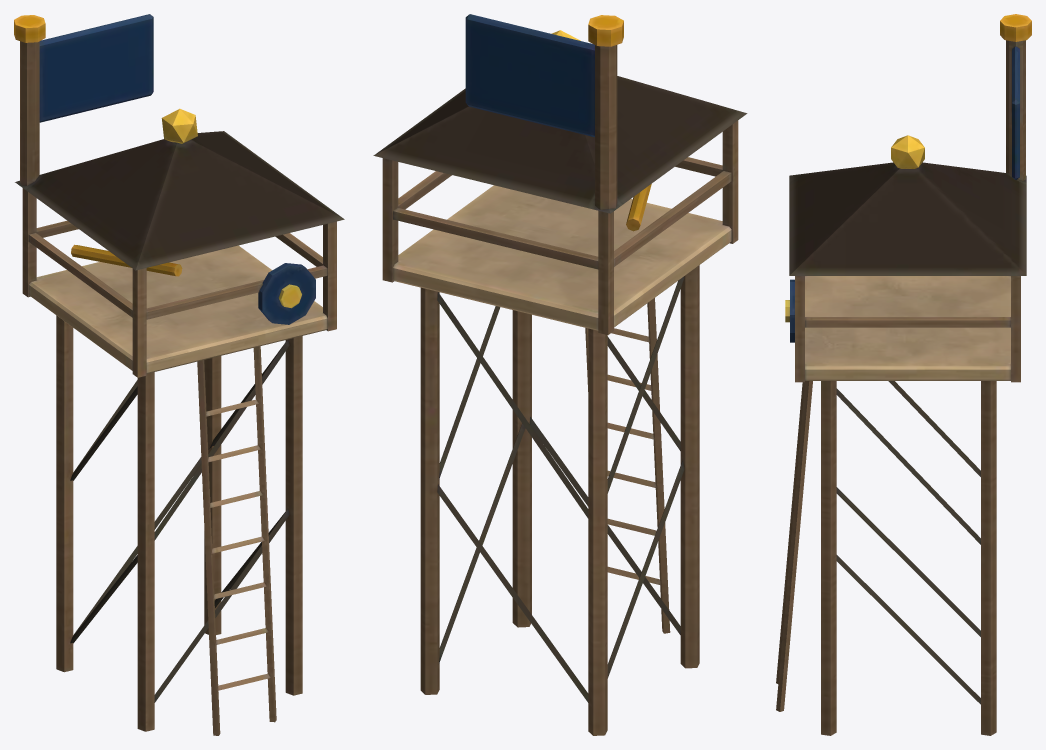
The model's file is watchtower-3-age10.glb.
3 views of the same model, side by side, from view 1: azimuth 30°, elevation 25°; view 2: azimuth 150°, elevation 25°; view 3: azimuth 270°, elevation 25° (orthographic). The views are drawn at different scales.
Visible parts, largest first — view 1: watchtower-3-age10; view 2: watchtower-3-age10; view 3: watchtower-3-age10.
Part boxes in pixels (left/top/right/bottom): watchtower-3-age10: left=14, top=14, right=344, bottom=735; watchtower-3-age10: left=373, top=14, right=747, bottom=735; watchtower-3-age10: left=776, top=14, right=1031, bottom=735.
Bounding box in the file's own units: 0.607 × 1.74 × 0.64.
1 material, 1 textured.
